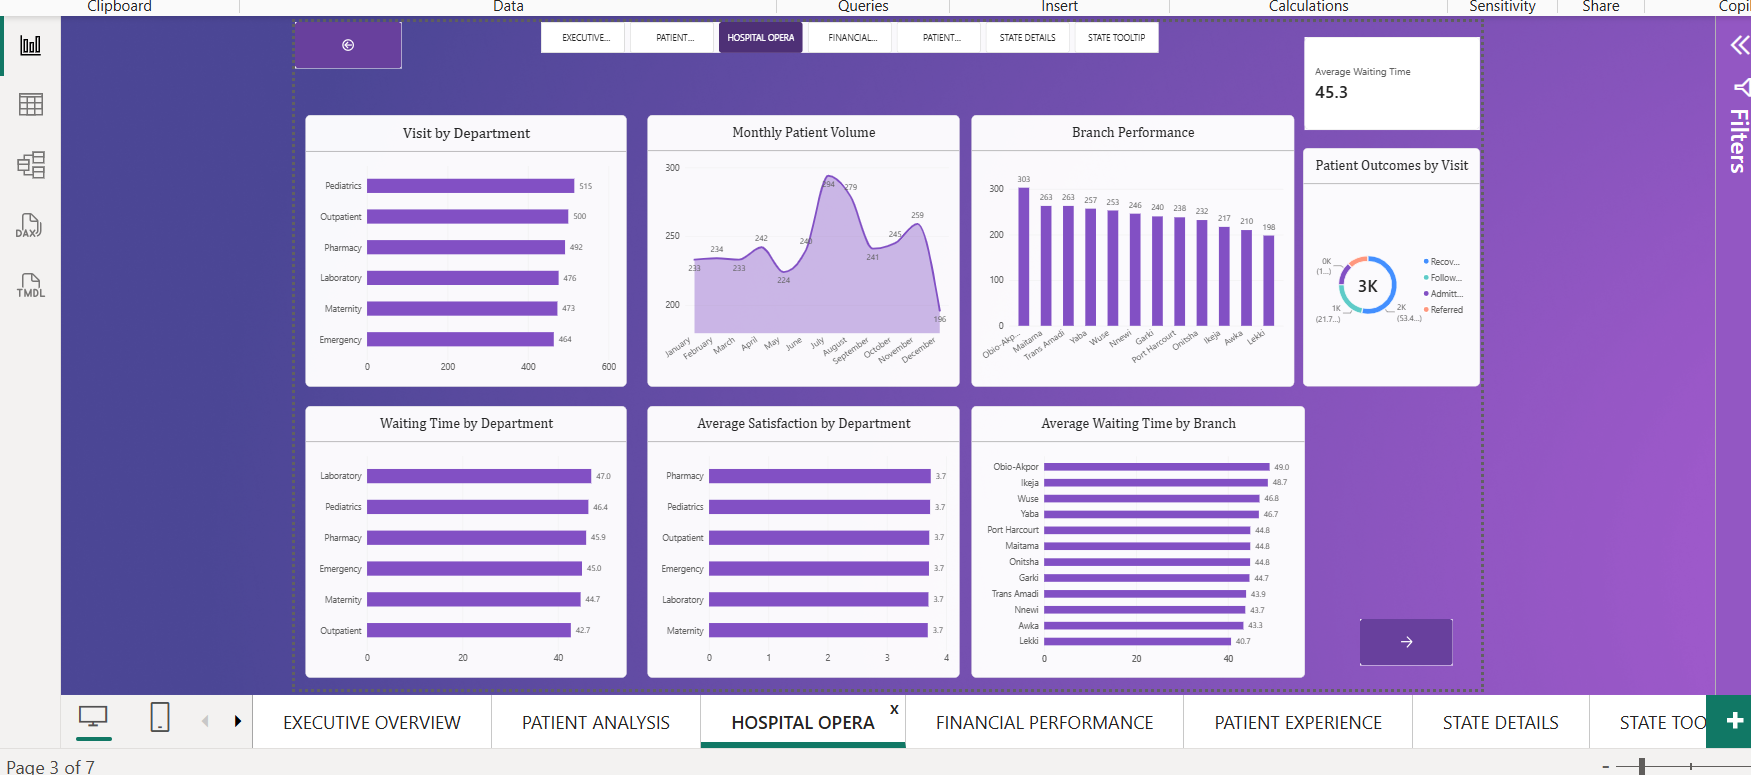

Layout of this report page (visuals, bound fields, positions):
{"tool":"powerbi","page":{"name":"HOSPITAL OPERA","canvas":[1920,1080],"ordinal":2},"visuals":[{"type":"clusteredBarChart","title":"Visit by Department","fields":{"Category":["Patient_Visits.Department"],"Y":["Date_Table.Total Visit"]},"box":[17.5,150,520,440],"z":0},{"type":"cardVisual","fields":{"Data":["Date_Table.Average Waiting Time"]},"box":[1632.2,0,284.2,194.3],"z":1},{"type":"clusteredBarChart","title":"Waiting Time by Department","fields":{"Category":["Patient_Visits.Department"],"Y":["Date_Table.Average Waiting Time"]},"box":[17.5,622.5,520,440],"z":2},{"type":"clusteredBarChart","title":"Average Satisfaction by Department","fields":{"Category":["Patient_Visits.Department"],"Y":["Date_Table.Average Satisfaction"]},"box":[570,622.5,505,440],"z":3},{"type":"clusteredColumnChart","title":"Branch Performance","fields":{"Category":["Patient_Visits.Branch"],"Y":["Date_Table.Total Visit"]},"box":[1095,150,522.5,440],"z":5},{"type":"lineChart","title":"Monthly Patient Volume","fields":{"Category":["Date_Table.Month"],"Y":["Date_Table.Total Visit"]},"box":[570,150,505,440],"z":6},{"type":"donutChart","title":"Patient Outcomes by Visit","fields":{"Category":["Patient_Visits.Outcome"],"Y":["Date_Table.Total Visit"]},"box":[1632.2,675.2,286.6,386.2],"z":7},{"type":"clusteredBarChart","title":"Average Waiting Time by Branch","fields":{"Category":["Patient_Visits.Branch"],"Y":["Date_Table.Average Waiting Time"]},"box":[1095.4,621.8,522.2,439.6],"z":8},{"type":"actionButton","box":[0,0,172.5,75],"z":9},{"type":"pageNavigator","box":[399.2,0,1000,50],"z":11}]}

Visuals, with their boxes on the page's 1920x1080 design canvas (x1, y1, x2, y2). These are canvas units, not pixel positions in the 1751x775 screenshot, which may show the page scaled, cropped or inside an application window:
"Visit by Department" clusteredBarChart: locate(18, 150, 538, 590)
cardVisual - Date_Table.Average Waiting Time: locate(1632, 0, 1916, 194)
"Waiting Time by Department" clusteredBarChart: locate(18, 622, 538, 1062)
"Average Satisfaction by Department" clusteredBarChart: locate(570, 622, 1075, 1062)
"Branch Performance" clusteredColumnChart: locate(1095, 150, 1618, 590)
"Monthly Patient Volume" lineChart: locate(570, 150, 1075, 590)
"Patient Outcomes by Visit" donutChart: locate(1632, 675, 1919, 1061)
"Average Waiting Time by Branch" clusteredBarChart: locate(1095, 622, 1618, 1061)
actionButton: locate(0, 0, 172, 75)
pageNavigator: locate(399, 0, 1399, 50)
